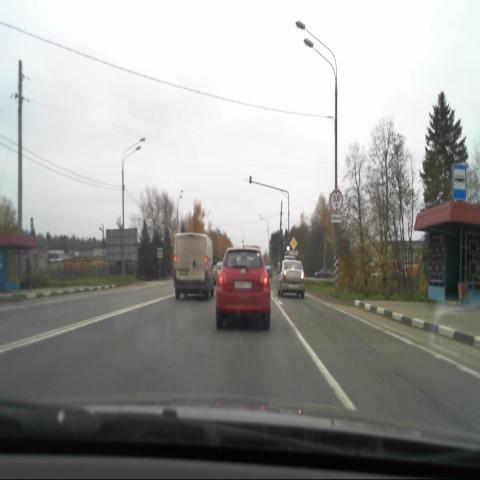3_13: (330, 188, 343, 213)
